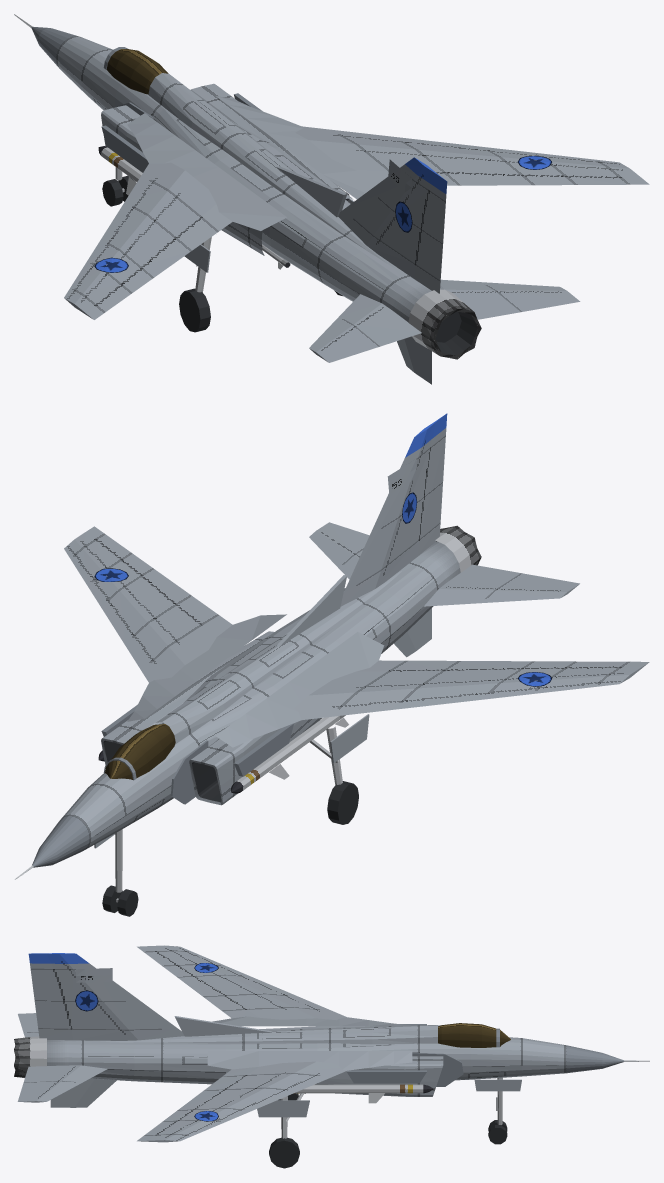
Rendered from mig23.glb.
The picture shows the model from 3 angles, top to bottom: view 1: azimuth 30°, elevation 25°; view 2: azimuth 150°, elevation 25°; view 3: azimuth 270°, elevation 25°; orthographic projection. The views are drawn at different scales.
Visible parts, largest first — view 1: airframe, wing_l, wing_r, stab_l, stab_r, rudder, canopy, flap_l, gear_main_l, flap_r, aileron_r, aileron_l (+2 smaller); view 2: airframe, wing_l, wing_r, stab_l, canopy, stab_r, msl_2, rudder, gear_main_l, flap_r, gear_nose, flap_l (+3 smaller); view 3: airframe, wing_r, wing_l, stab_r, rudder, canopy, msl_3, gear_main_r, flap_l, door_main_r, flap_r, gear_nose (+4 smaller).
Part boxes in pixels (x1,y1,x2,y2): airframe: (14,14,481,384); wing_l: (64,162,232,319); wing_r: (295,126,649,184); stab_l: (309,294,421,362); stab_r: (440,279,580,319); rudder: (415,190,445,279); canopy: (103,47,168,94); flap_l: (141,216,219,277); gear_main_l: (179,237,211,332); flap_r: (388,171,532,185); aileron_r: (520,174,626,185); aileron_l: (97,267,153,311); airframe: (14,413,481,879); wing_l: (295,660,649,719); wing_r: (64,526,232,682); stab_l: (424,564,579,606); canopy: (103,724,175,780); stab_r: (309,522,369,579); msl_2: (231,715,348,793); rudder: (419,435,445,538); gear_main_l: (309,726,358,824); flap_r: (141,569,219,625); gear_nose: (102,829,138,916); flap_l: (387,660,532,671); airframe: (14,953,649,1107); wing_r: (137,1061,346,1142); wing_l: (137,945,346,1020); stab_r: (17,1065,107,1102); rudder: (30,968,71,1028); canopy: (438,1023,510,1047); msl_3: (280,1084,433,1103); gear_main_r: (269,1093,303,1168); flap_l: (178,976,247,1011); door_main_r: (257,1100,309,1117); flap_r: (178,1075,246,1110); gear_nose: (488,1077,507,1144).
Size of the model in its own units: 12.6 by 5.65 by 17.4.
Materials: 6 (6 with a texture image).
